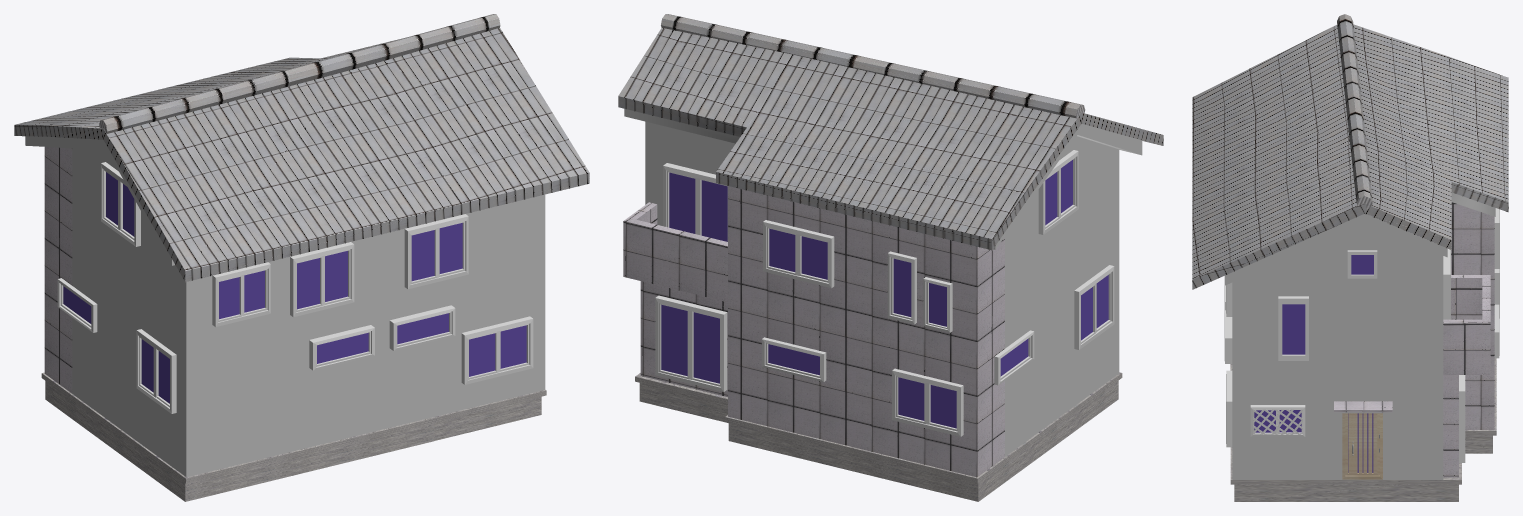
File: house009_middle.fbx
3 renders of one model, left to right at view 1: azimuth 30°, elevation 25°; view 2: azimuth 150°, elevation 25°; view 3: azimuth 270°, elevation 25°, orthographic. The views are drawn at different scales.
Parts seen in each view (by area): view 1: pPlane2; view 2: pPlane2; view 3: pPlane2.
Part boxes in pixels (x1,y1,x2,y2): pPlane2: (14, 14, 589, 501); pPlane2: (618, 14, 1163, 501); pPlane2: (1192, 14, 1508, 501).
Size of the model in its own units: 11.12 by 9.02 by 8.15.
